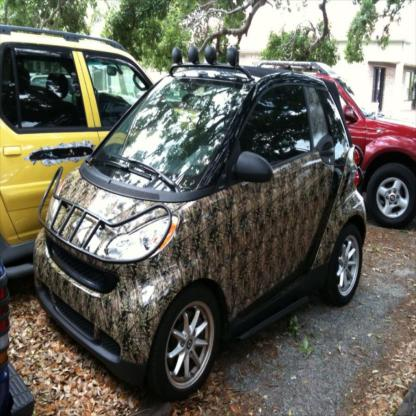Car: (34, 48, 368, 402), (1, 26, 157, 284), (263, 62, 416, 228), (1, 261, 35, 414)
